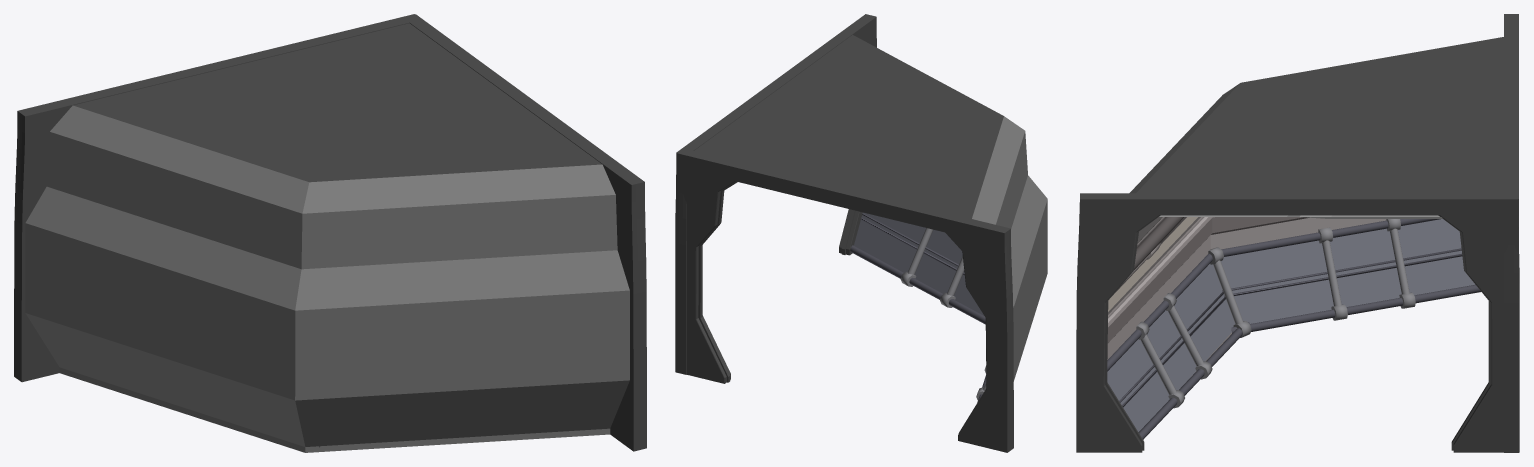
File: Hallway_Module_Curve_01.glb
3 views of the same model, side by side, from view 1: azimuth 30°, elevation 25°; view 2: azimuth 150°, elevation 25°; view 3: azimuth 270°, elevation 25° (orthographic). The views are drawn at different scales.
Visible parts, largest first — view 1: Hallway_Module_Curve_01; view 2: Hallway_Module_Curve_01; view 3: Hallway_Module_Curve_01.
Part boxes in pixels (bbox=[...]): Hallway_Module_Curve_01: bbox=[14, 14, 646, 452]; Hallway_Module_Curve_01: bbox=[675, 14, 1047, 452]; Hallway_Module_Curve_01: bbox=[1076, 14, 1519, 452].
Size of what is drawn, in the model's own units: 6.03 by 3.82 by 6.03.
1 material, 1 textured.
